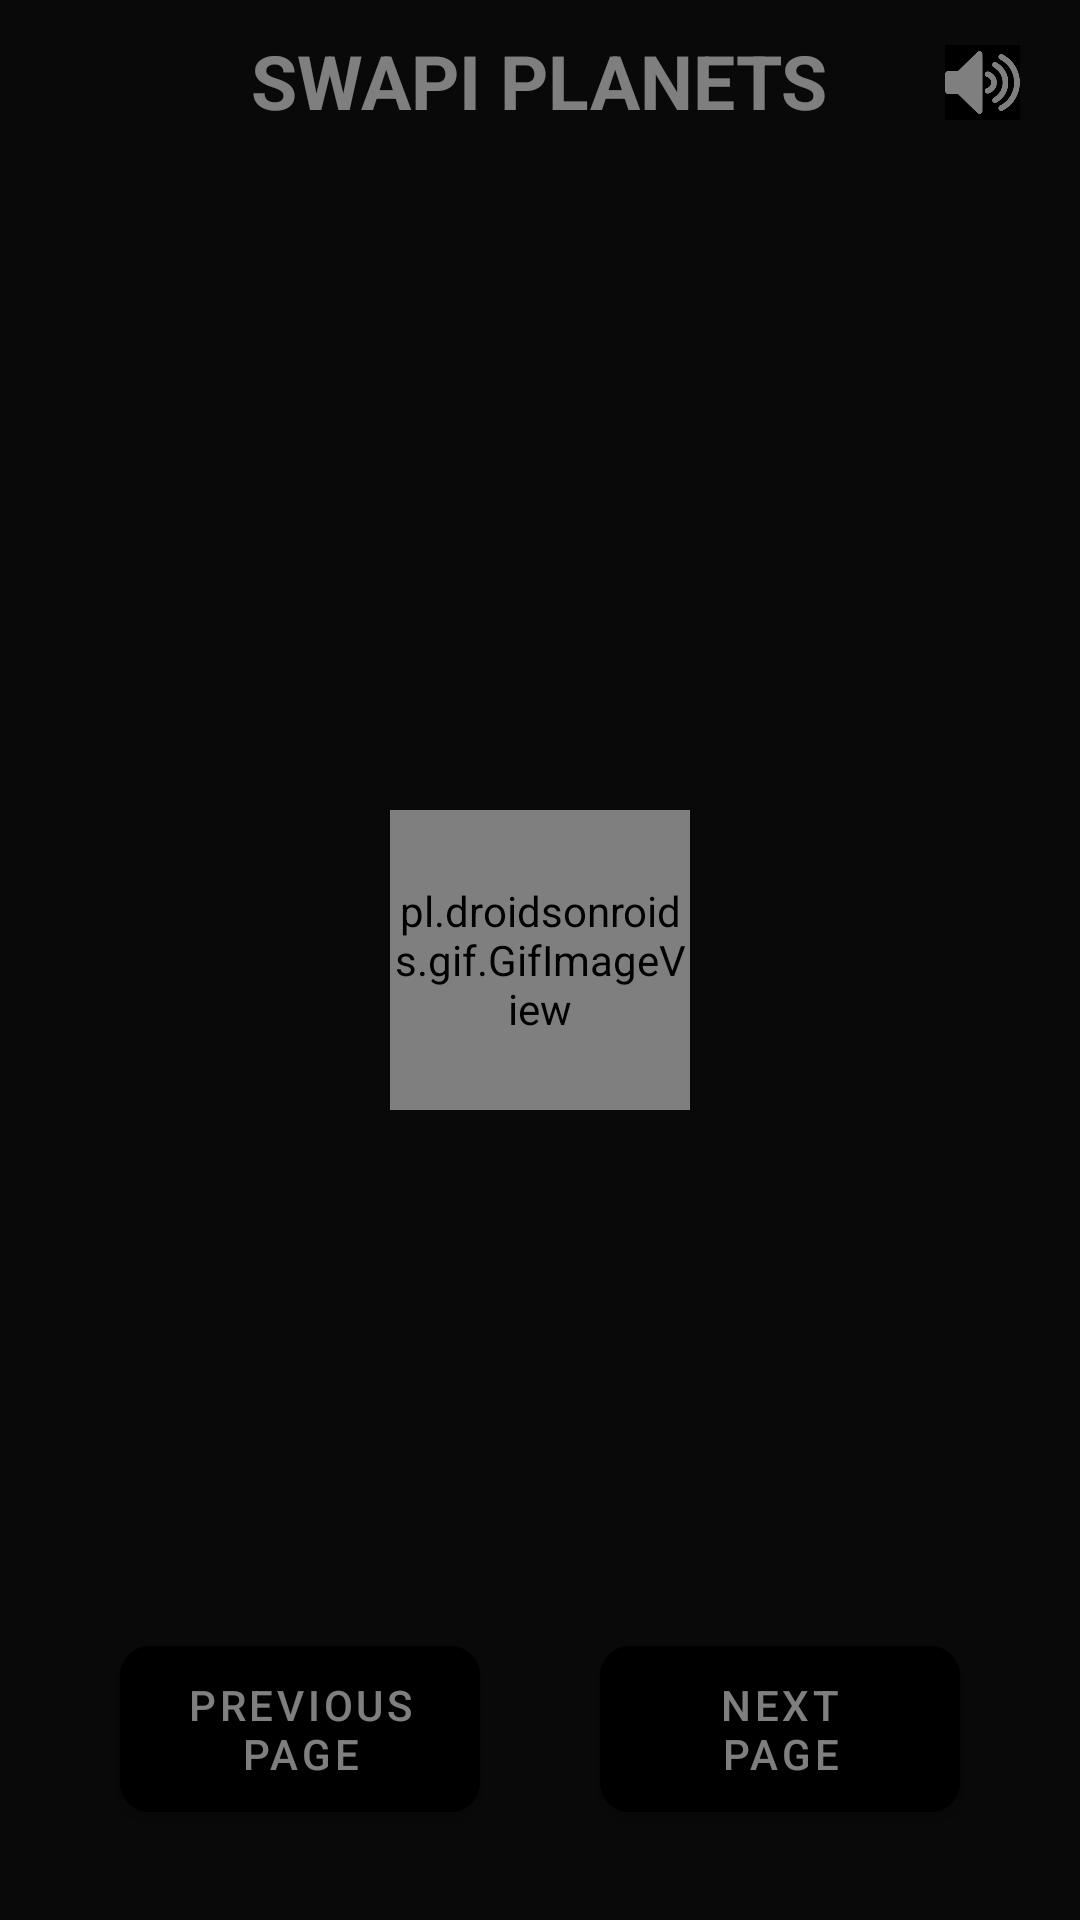

Named icons in this screenshot (1080 x 1920) and their centers, point (x, y):
sound: point (982, 82)
